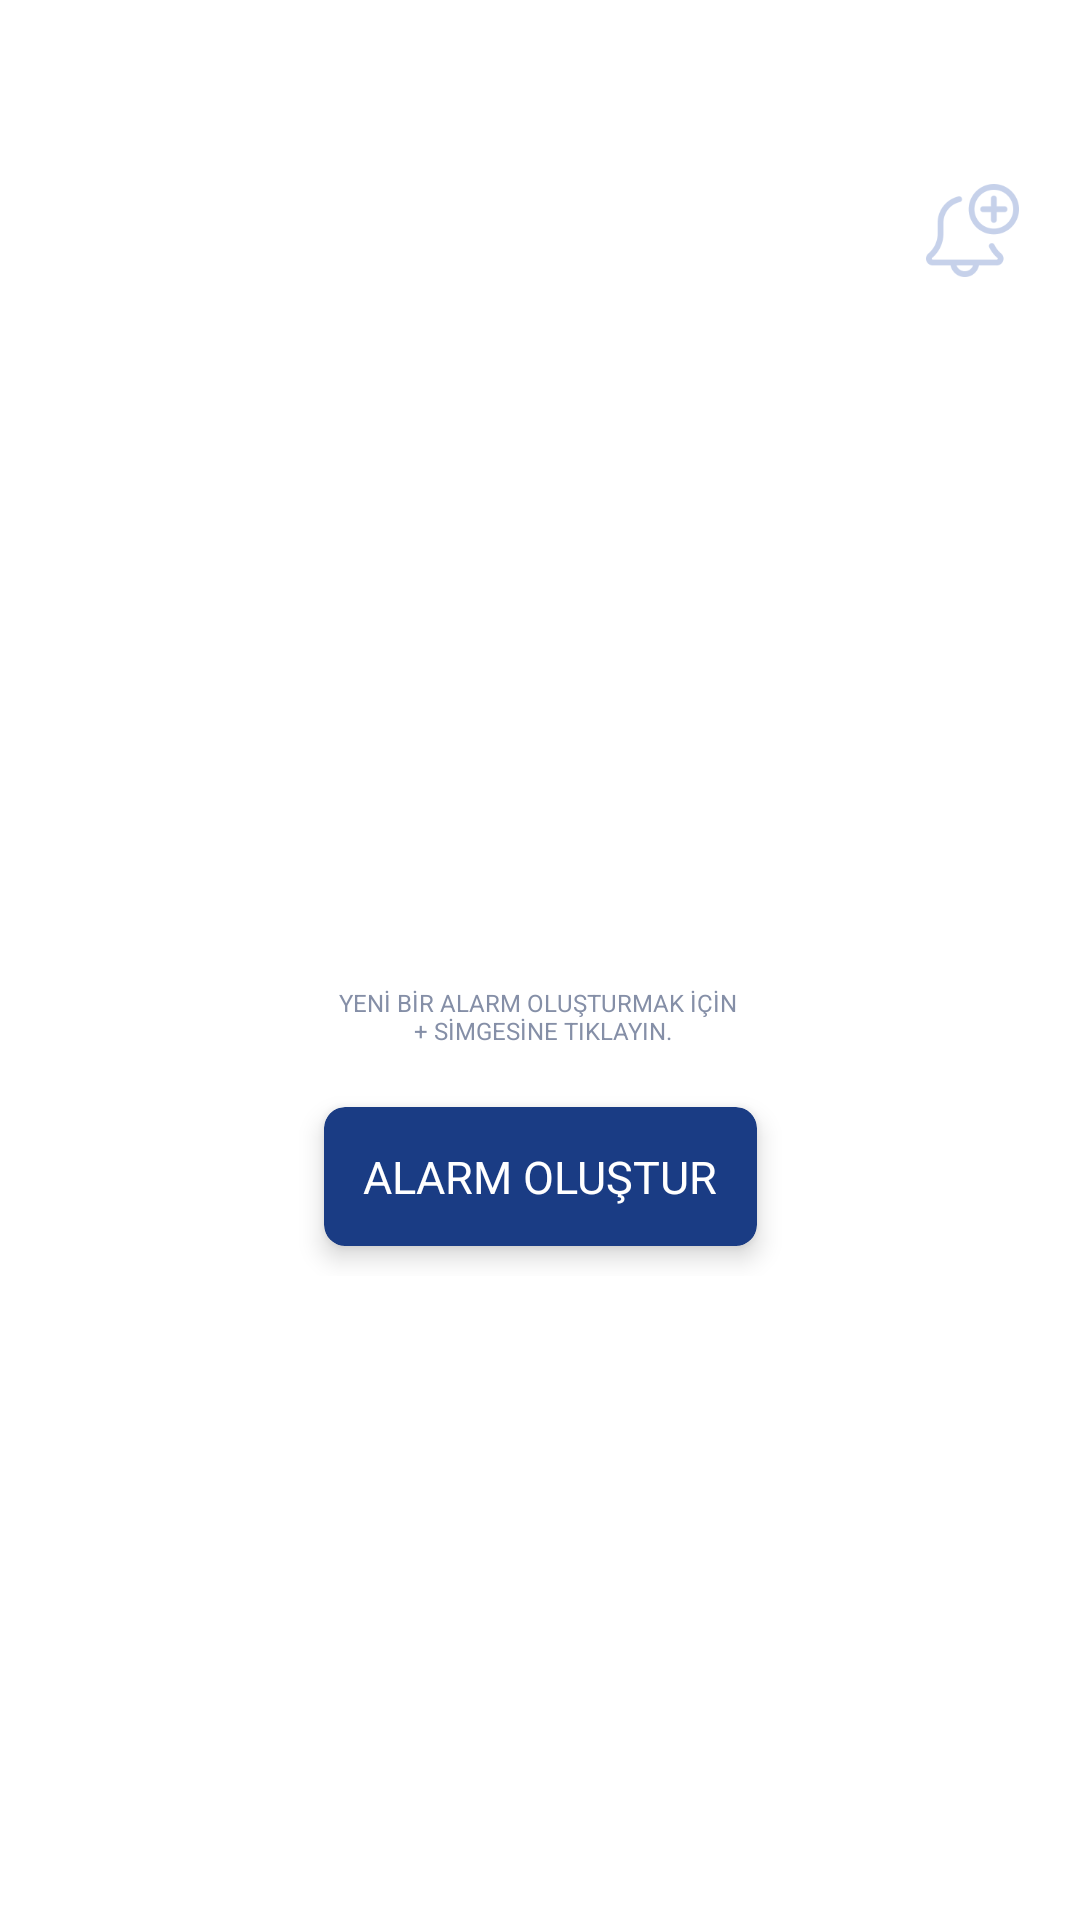

Screen size 1080*1920. Icon name, then its center in pixels as (x=x, y=y):
add notification: (x=972, y=230)
